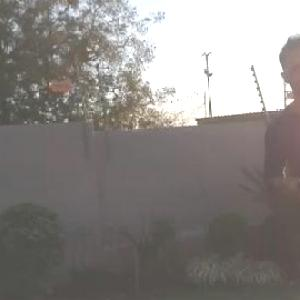follow: (259, 31, 300, 299)
